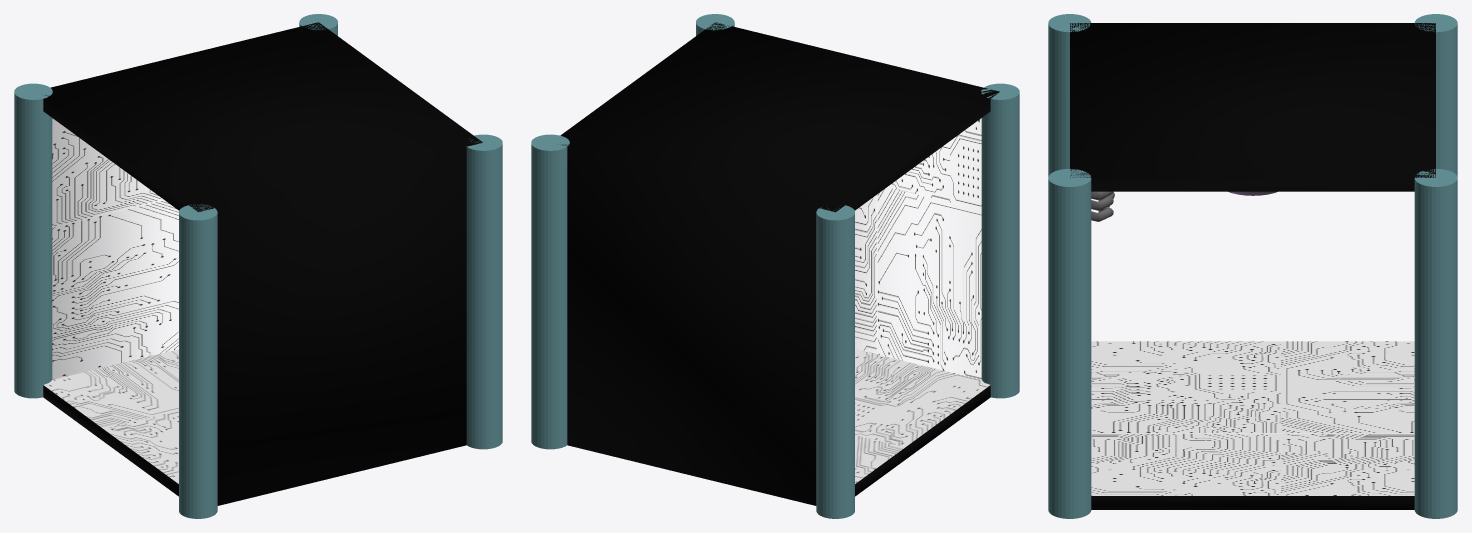
File: Tunnel_Test.fbx
The picture shows the model from 3 angles, left to right: view 1: azimuth 30°, elevation 25°; view 2: azimuth 150°, elevation 25°; view 3: azimuth 270°, elevation 25°; orthographic projection. The views are drawn at different scales.
Visible parts, largest first — view 1: Cube, Cube.002; view 2: Cube, Cube.002; view 3: Cube, Cube.002, Cube.001.
Part boxes in pixels (bbox=[...]): Cube: bbox=[43, 22, 482, 505]; Cube.002: bbox=[14, 14, 502, 518]; Cube: bbox=[560, 22, 999, 505]; Cube.002: bbox=[531, 14, 1019, 518]; Cube: bbox=[1070, 23, 1435, 509]; Cube.002: bbox=[1048, 14, 1457, 518]; Cube.001: bbox=[1091, 191, 1114, 221].
Size of the model in its own units: 1900 by 1700 by 1900.
